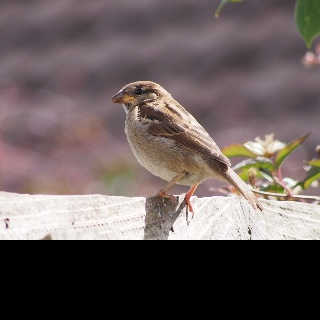without_mask: (110, 81, 159, 105)
